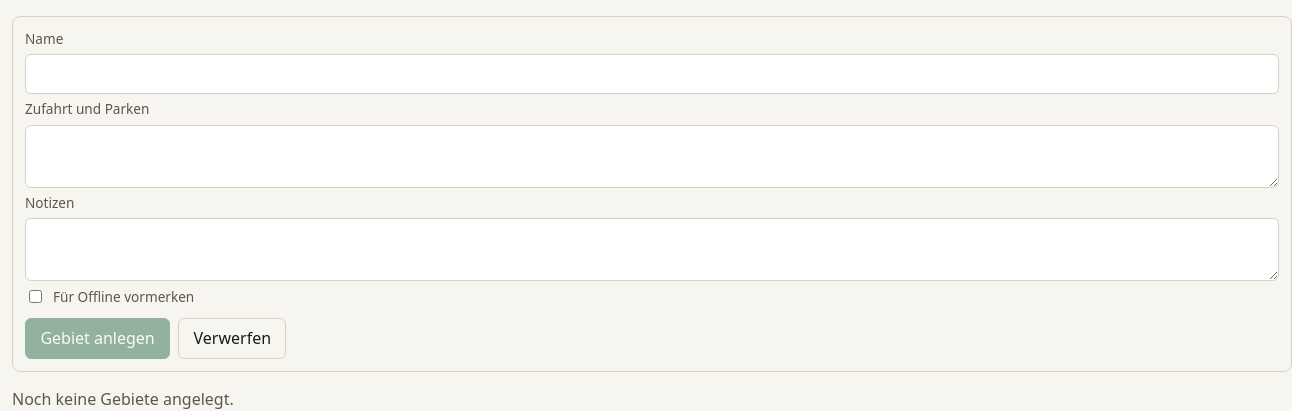
Scenario: 422 des Servers wird verständlich angezeigt, nicht verschluckt
(page scrolled)
Type "Kaputt" into the field labelled "Name" at [652, 74], box x1=25 y1=54 x2=1279 y2=94
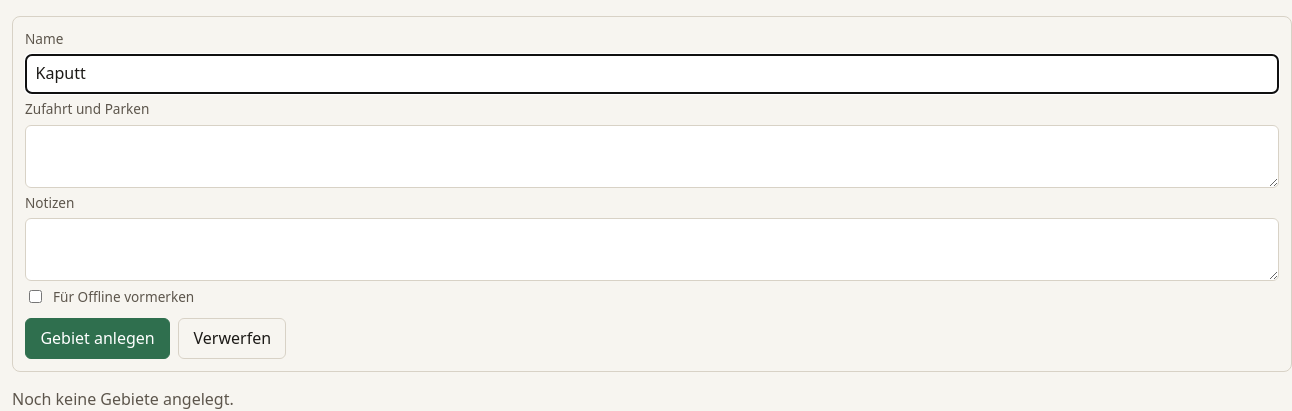
Click the button "Gebiet anlegen" at [98, 338], box x1=25 y1=318 x2=170 y2=359
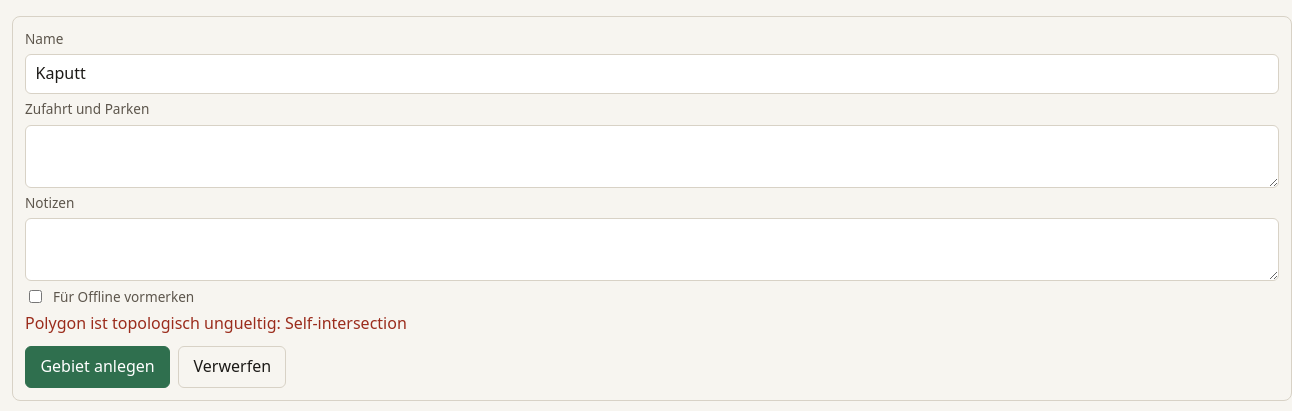
Expected: the message shows "topologisch ungueltig", x1=25 y1=312 x2=407 y2=334
